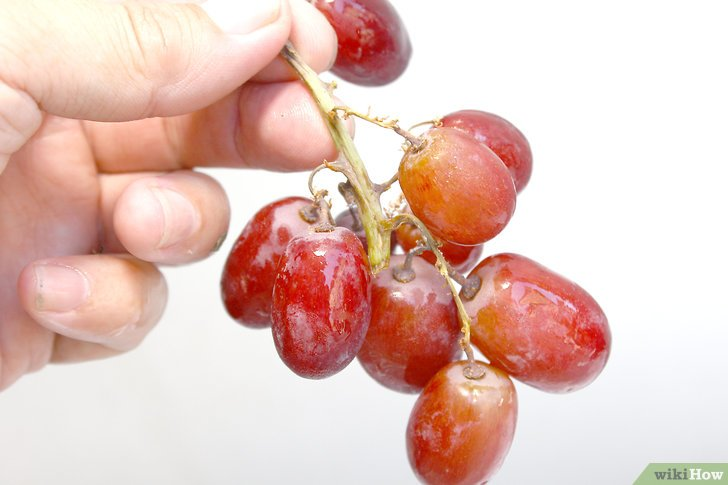Red Grapes: (202, 110, 620, 468)
